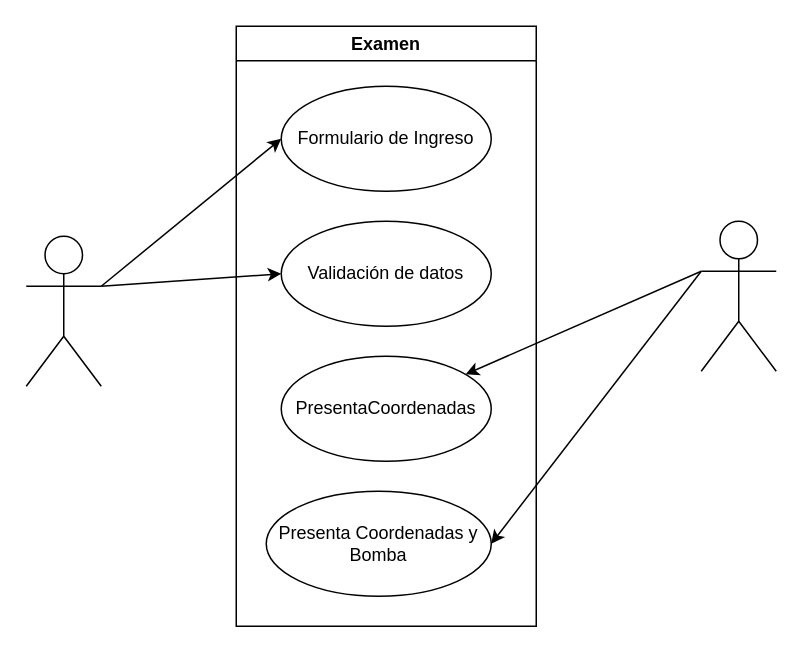
The diagram is 803 pixels wide and 653 high, and some of its shapes have lost their labels. Here are the shapes that lost their labels. From the top down, the centre of each, then its label:
At pixel 63 310: "Usuario".
At pixel 738 295: "Sistema".
